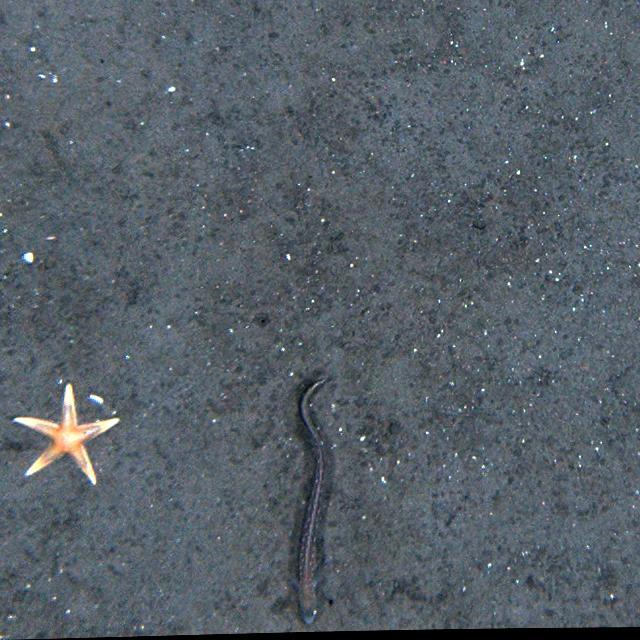roundfish: (285, 378, 341, 625)
